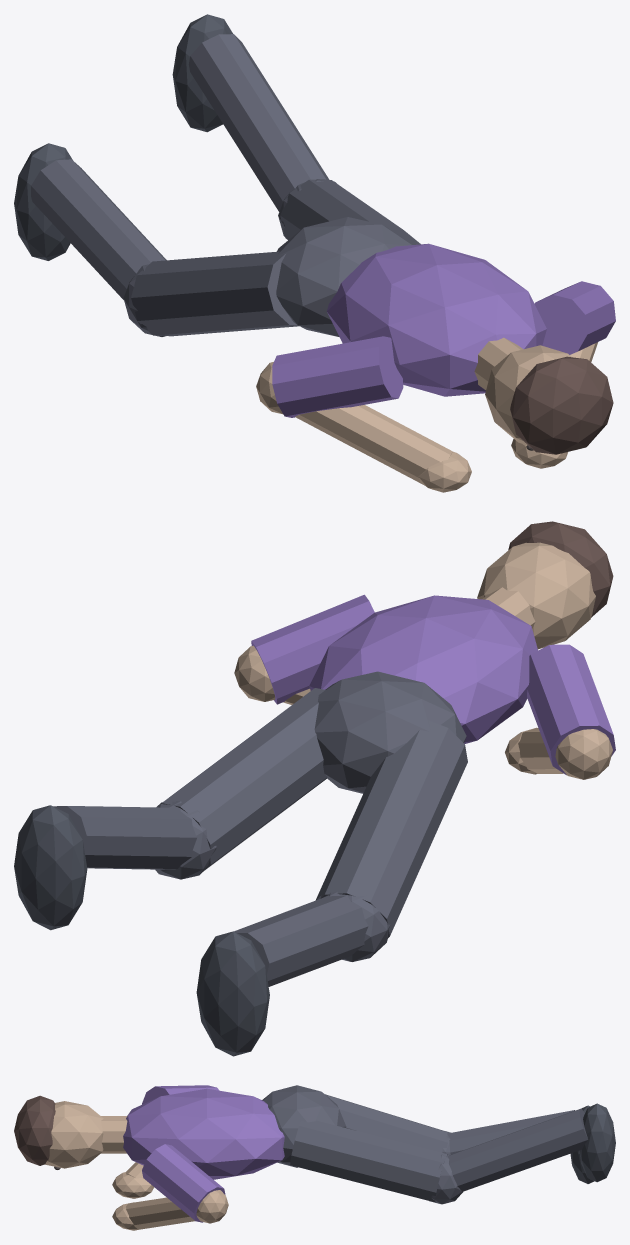
The picture shows the model from 3 angles, top to bottom: view 1: azimuth 30°, elevation 25°; view 2: azimuth 150°, elevation 25°; view 3: azimuth 270°, elevation 25°; orthographic projection. The views are drawn at different scales.
Visible parts, largest first — view 1: world; view 2: world; view 3: world.
Part boxes in pixels (bbox=[...]): world: bbox=[14, 14, 615, 492]; world: bbox=[14, 521, 615, 1056]; world: bbox=[14, 1085, 615, 1230].
Bounding box in the file's own units: 0.93 × 0.5125 × 2.07.
